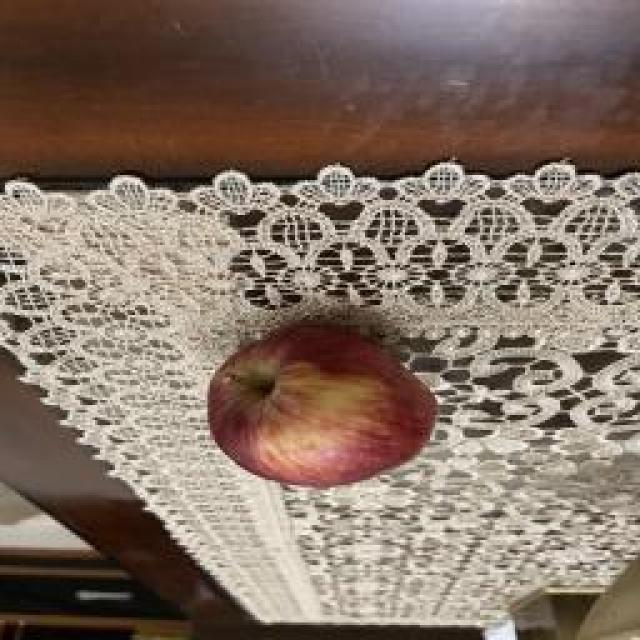apple: (209, 320, 436, 486)
